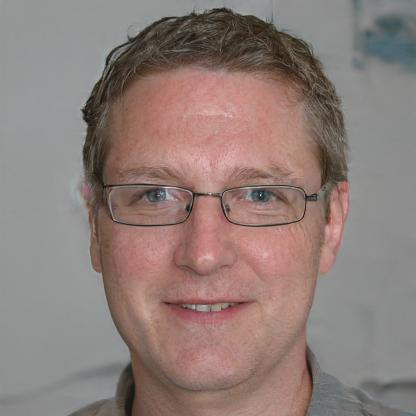glasses: (93, 176, 314, 232)
